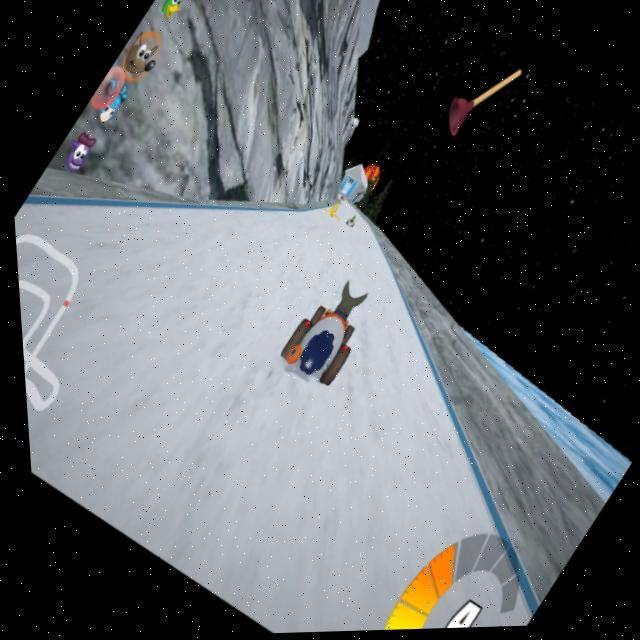enemy_kart: (337, 210, 358, 232)
obstacle: (316, 197, 344, 225)
player_kart: (258, 272, 381, 403)
